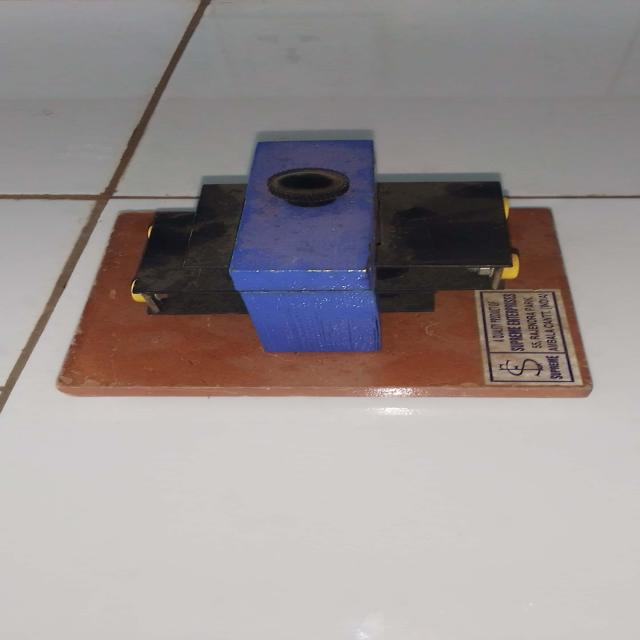Transformer Demo: (65, 126, 627, 416)
